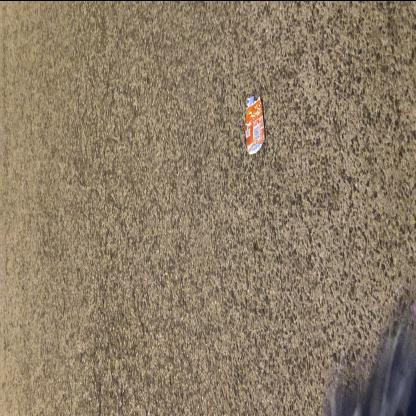metal: (245, 94, 266, 154)
